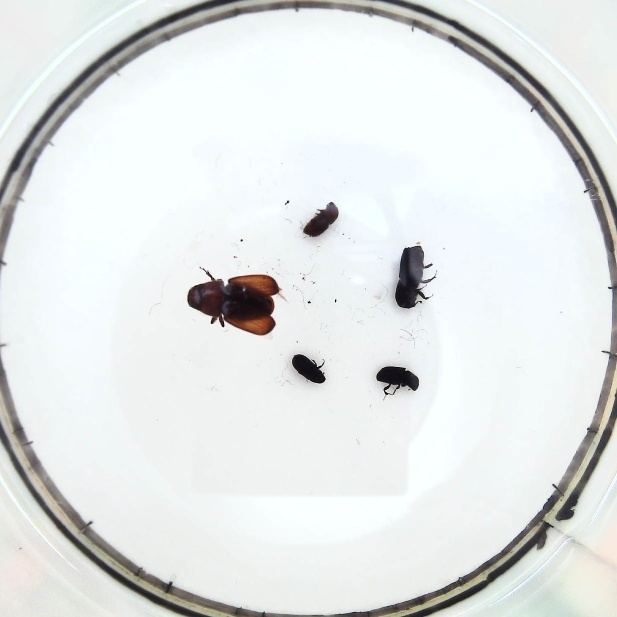armandi: (376, 364, 420, 395)
boerner: (394, 244, 426, 308)
coleoptera: (290, 353, 326, 386)
leconte: (185, 273, 279, 336)
linnaeus: (302, 201, 340, 238)
